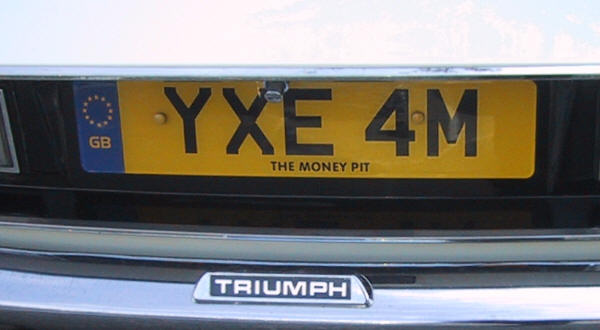license_plate: (72, 80, 536, 179)
